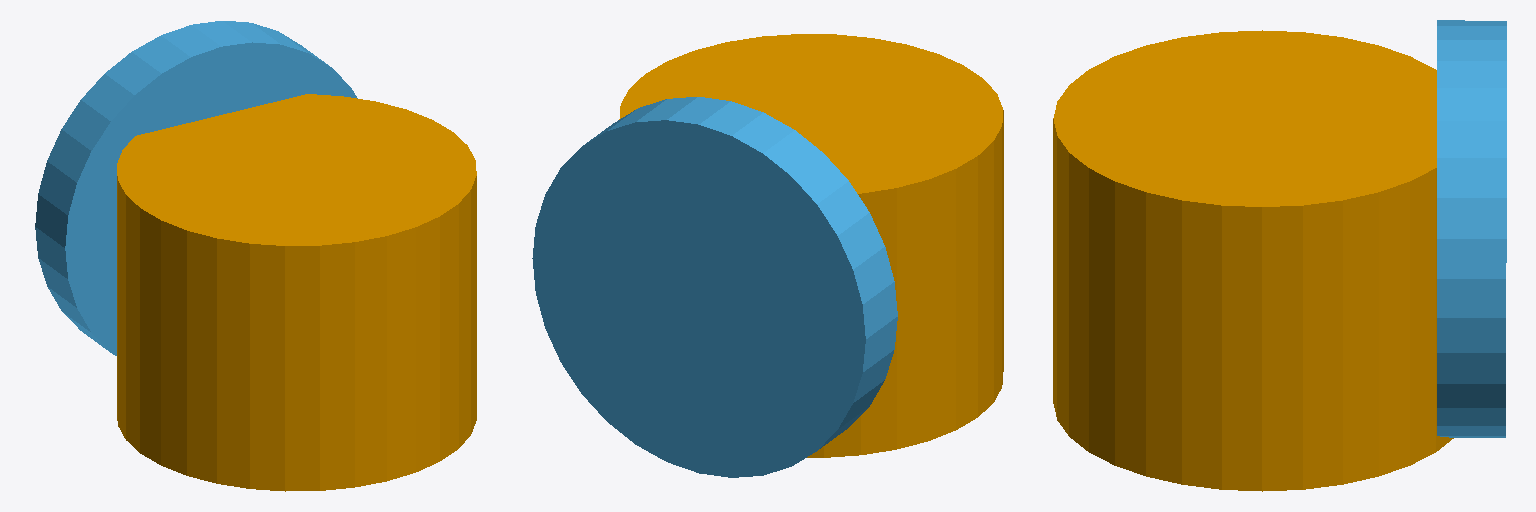
robot.urdf — first_robot:
<?xml version="1.0"?>
<robot name="first_robot">
    <link name="base_link">
        <visual>
        <origin rpy="0 0 0" xyz="0 0 0"/>
        <geometry>
            <cylinder radius="0.06" length="0.09"/>
        </geometry>
        </visual>
    </link>
    
    <link name="wheel_1_link">
        <visual>
            <origin rpy="1.57 0 0" xyz="0 0.03 0"/>
            <geometry>
                <cylinder radius="0.06" length="0.02"/>
            </geometry>
        </visual>
    </link>
    
    <joint name="roll_joint" type="continuous">
        <parent link="base_link"/>
        <child link="wheel_1_link"/>
        <origin xyz="0 0.03 0.01" rpy="0 0 0"/>
        <!-- <limit lower="-0.2" upper="0.2" effort="0.1" velocity="0.005"/> -->
        <axis xyz="0 1 0"/>
    </joint>
    
</robot>

--- What the picture shows (computed from the rendered views, not written in the file) ---
The picture shows the robot from 3 angles, left to right: view 1: azimuth 30°, elevation 25°; view 2: azimuth 150°, elevation 25°; view 3: azimuth 270°, elevation 25°; orthographic projection.
Model first_robot with 2 links and 1 joints (1 continuous), rooted at base_link, posed all joints at 0.
Links seen in each view (by area): view 1: base_link, wheel_1_link; view 2: wheel_1_link, base_link; view 3: base_link, wheel_1_link.
Link boxes in pixels (x1,y1,x2,y2): base_link: (117, 94, 476, 491); wheel_1_link: (35, 21, 357, 355); wheel_1_link: (532, 97, 897, 477); base_link: (619, 34, 1003, 457); base_link: (1053, 30, 1453, 491); wheel_1_link: (1437, 20, 1506, 437).
Size in the robot's own frame: 0.12 by 0.13 by 0.12 metres.
Geometry: primitives only (box / cylinder / sphere), no mesh files.
